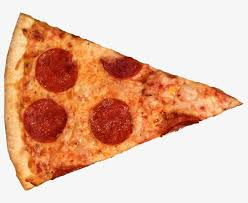pizza: (7, 12, 243, 193)
